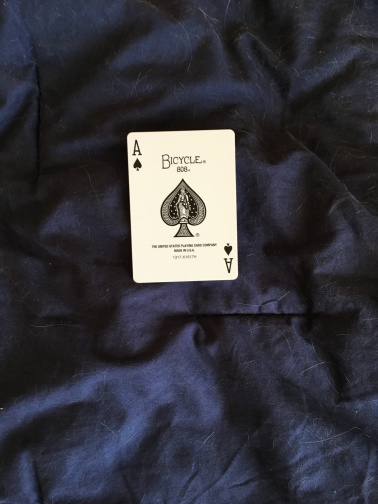ace: (124, 126, 242, 284)
